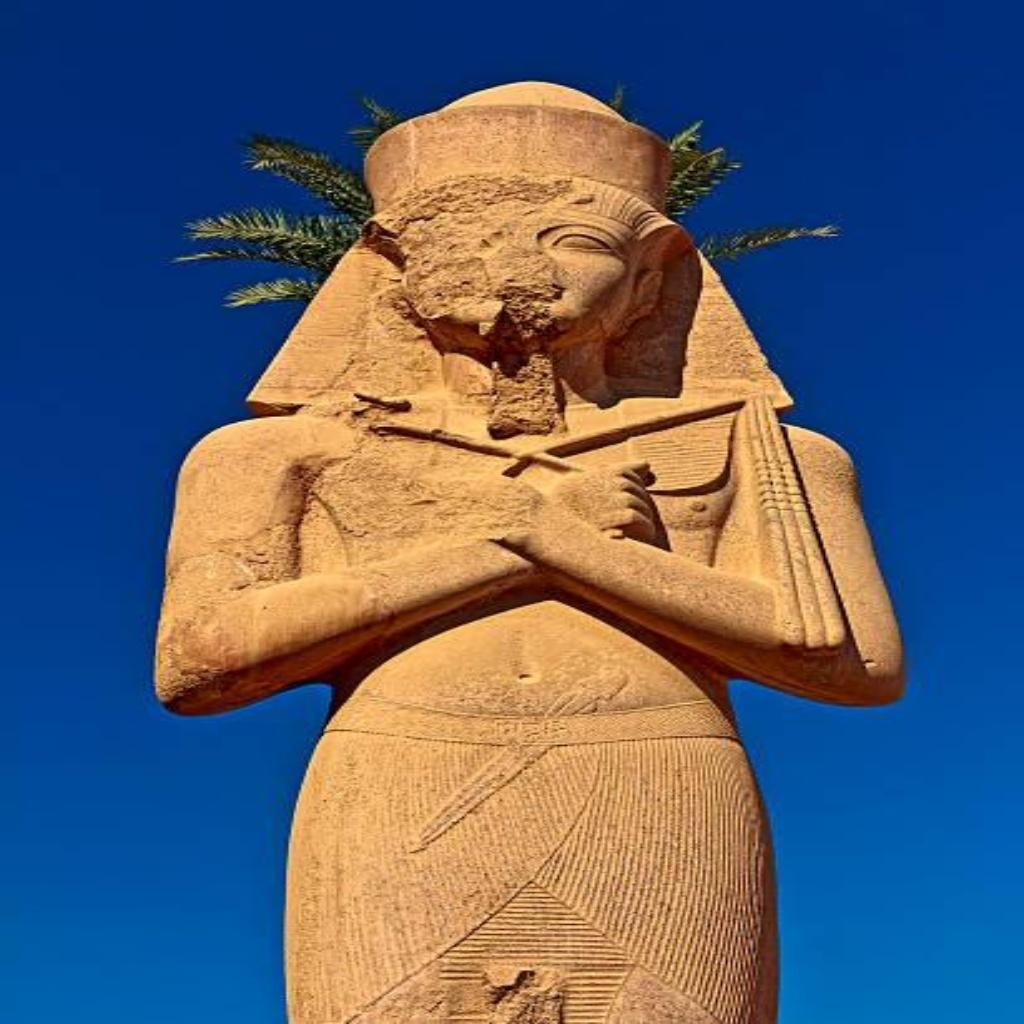Standing Statue of King Ramses II: (148, 77, 911, 1021)
